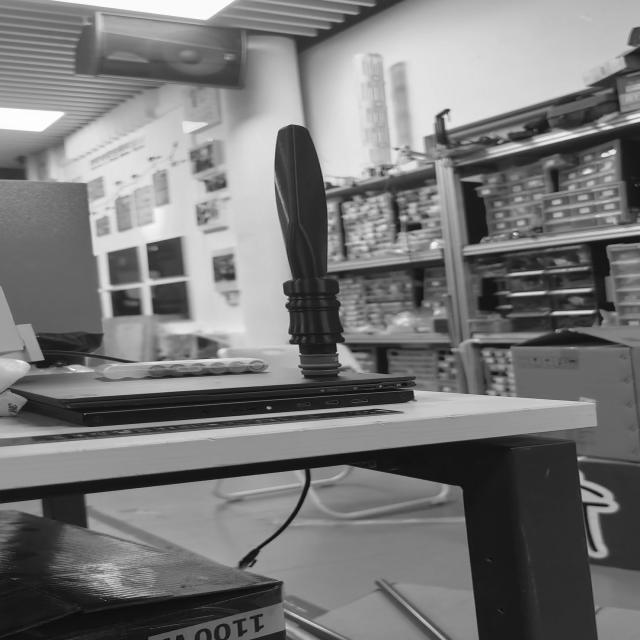base: (294, 352, 344, 382)
